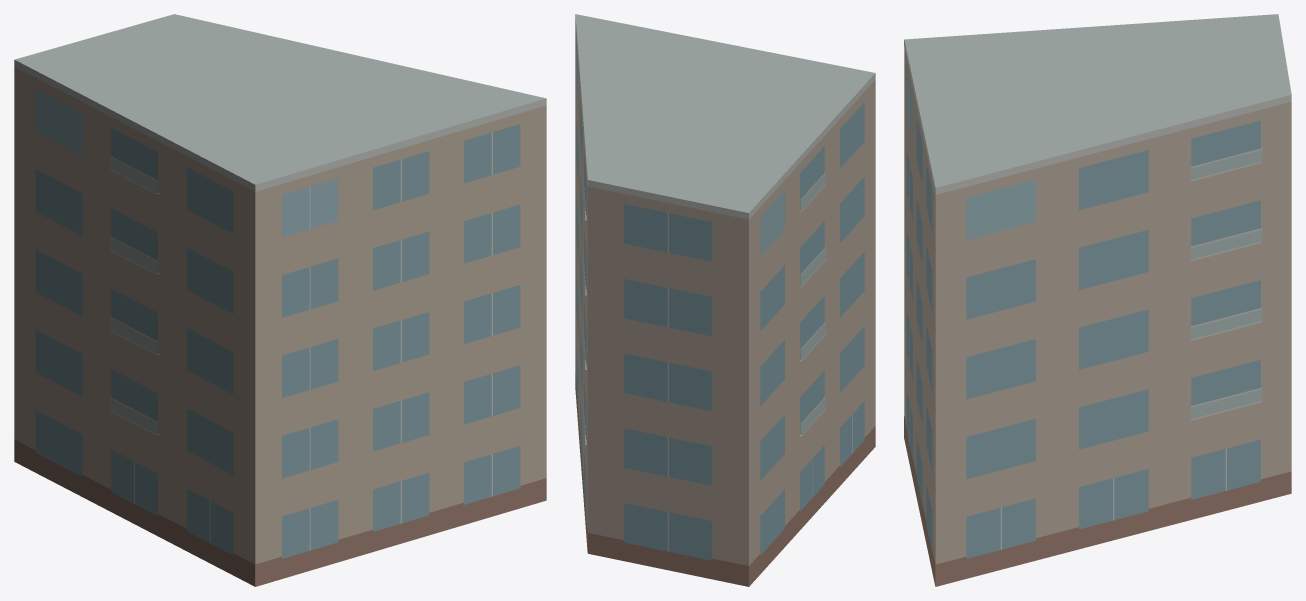
The model's file is survey-upis-32475428.glb.
3 views of the same model, side by side, from view 1: azimuth 30°, elevation 25°; view 2: azimuth 150°, elevation 25°; view 3: azimuth 270°, elevation 25° (orthographic). The views are drawn at different scales.
Parts seen in each view (by area): view 1: survey-upis-32475428.tmp; view 2: survey-upis-32475428.tmp; view 3: survey-upis-32475428.tmp.
Part boxes in pixels (x1,y1,x2,y2): survey-upis-32475428.tmp: (14,14,546,586); survey-upis-32475428.tmp: (575,14,875,586); survey-upis-32475428.tmp: (904,14,1291,586).
Size of the model in its own units: 13.11 by 14 by 12.34.
